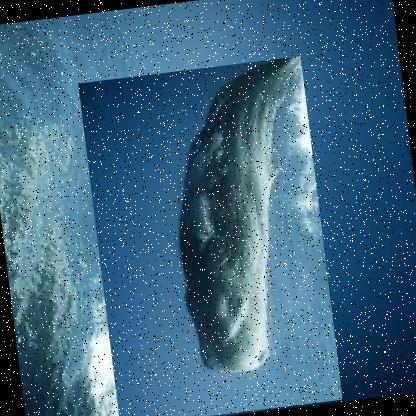sperm_whale: (76, 55, 343, 415)
